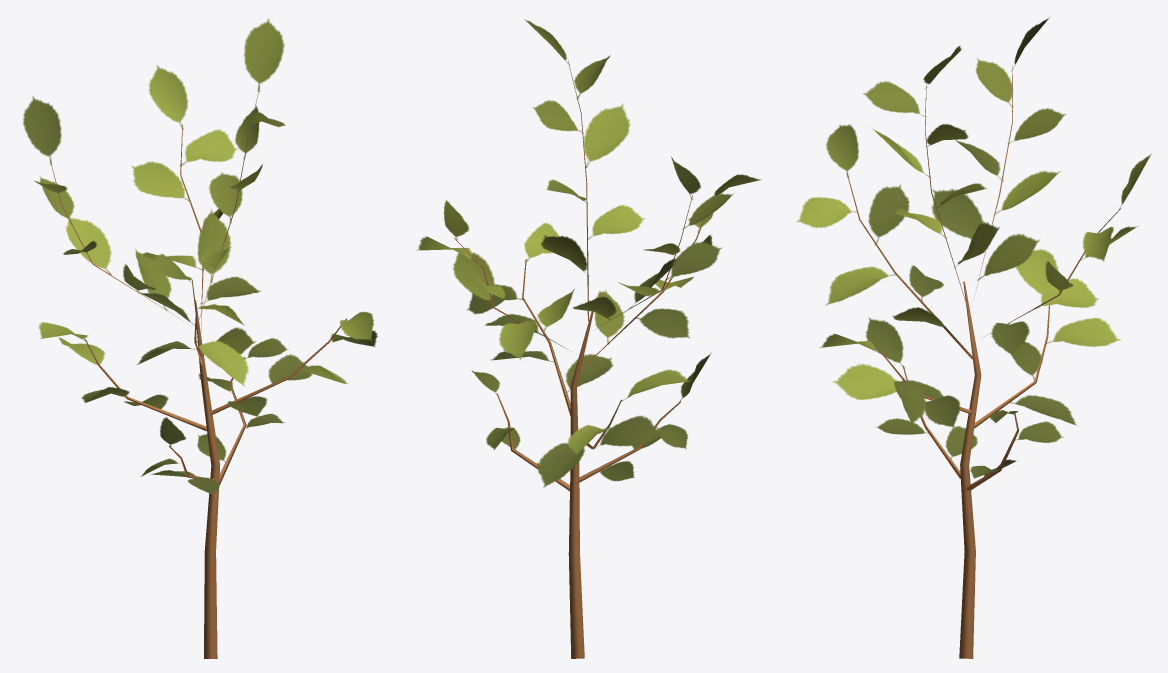
Rendered from Young_Birch_Tree_2.glb.
3 renders of one model, left to right at view 1: azimuth 30°, elevation 25°; view 2: azimuth 150°, elevation 25°; view 3: azimuth 270°, elevation 25°, orthographic. The views are drawn at different scales.
Parts seen in each view (by area): view 1: Young_Birch_Tree_2; view 2: Young_Birch_Tree_2; view 3: Young_Birch_Tree_2.
Part boxes in pixels (x1,y1,x2,y2): Young_Birch_Tree_2: (23, 18, 377, 658); Young_Birch_Tree_2: (416, 19, 761, 658); Young_Birch_Tree_2: (796, 17, 1151, 658).
Size of the model in its own units: 1.04 by 2.03 by 1.04.
2 materials, 2 textured.
